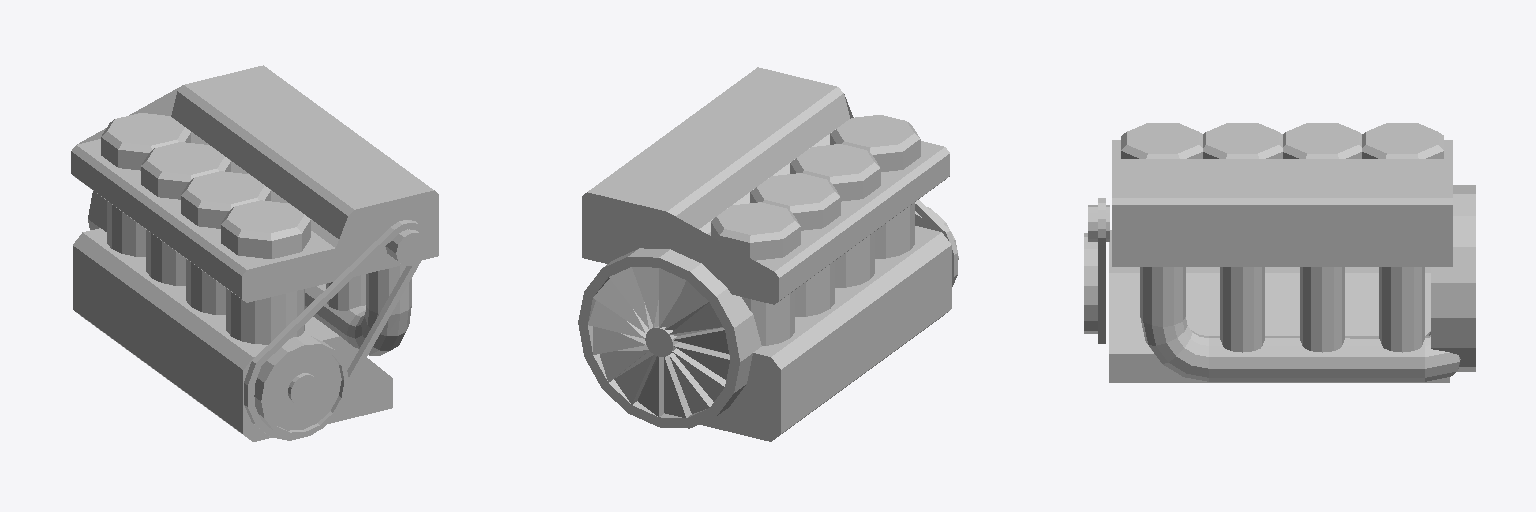
The model's file is obj_interactive_flexenginetractor.obj.
3 renders of one model, left to right at view 1: azimuth 30°, elevation 25°; view 2: azimuth 150°, elevation 25°; view 3: azimuth 270°, elevation 25°, orthographic.
Parts seen in each view (by area): view 1: Cylinder008; view 2: Cylinder008; view 3: Cylinder008.
Part boxes in pixels (bbox=[...]): Cylinder008: bbox=[71, 65, 438, 441]; Cylinder008: bbox=[578, 67, 958, 441]; Cylinder008: bbox=[1084, 123, 1475, 382].
Bounding box in the file's own units: 2.01 × 2.02 × 3.44.